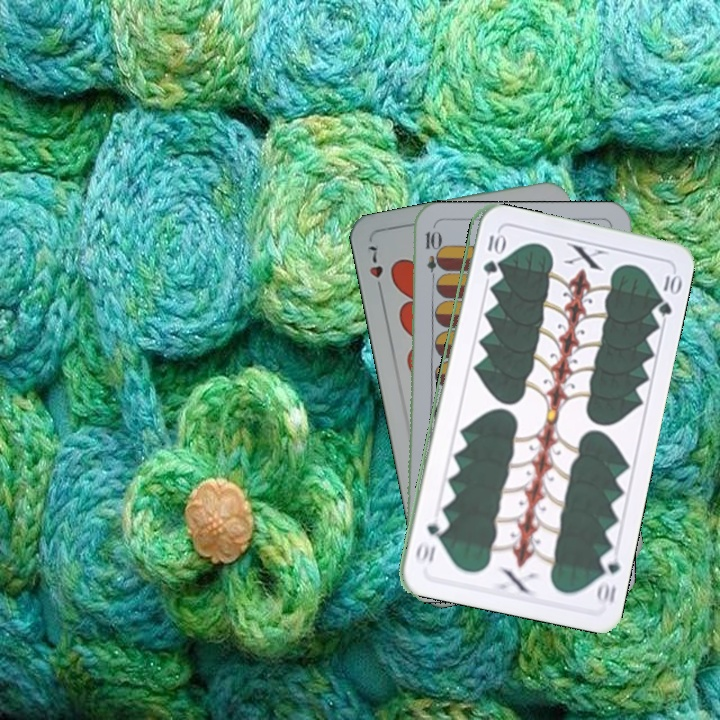E10: (421, 227, 440, 286)
G10: (592, 547, 623, 608), (479, 230, 503, 278)
H7: (363, 242, 386, 298)
